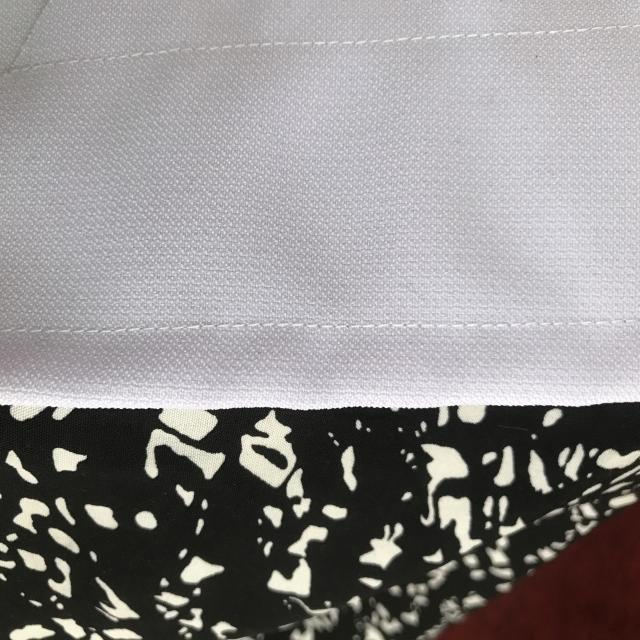good: (64, 28, 256, 64), (424, 307, 563, 343), (279, 28, 418, 62), (213, 307, 318, 348), (46, 318, 184, 347)
